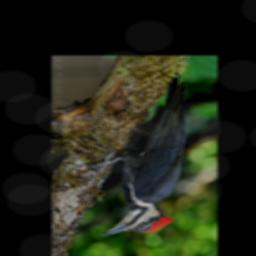Woodpecker: (89, 71, 196, 237)
